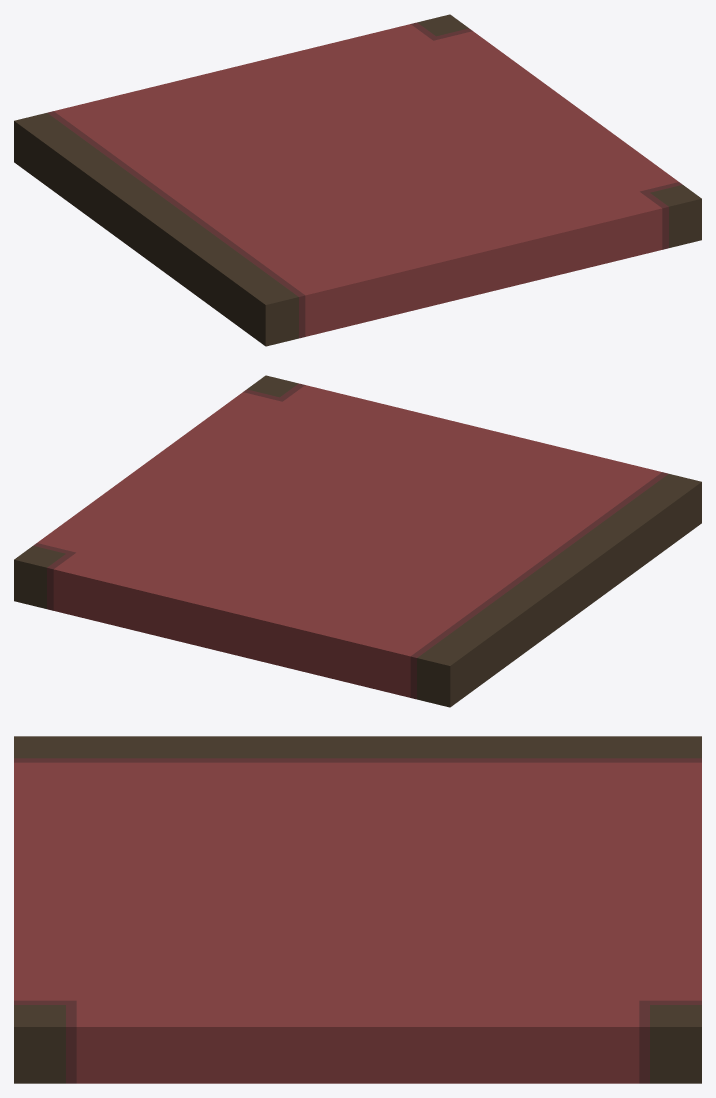
Rendered from GGJ stairs square.obj.
The picture shows the model from 3 angles, top to bottom: view 1: azimuth 30°, elevation 25°; view 2: azimuth 150°, elevation 25°; view 3: azimuth 270°, elevation 25°; orthographic projection. The views are drawn at different scales.
Bounding box in the file's own units: 6.6 × 0.6 × 6.6.
Materials: 1 (1 with a texture image).
